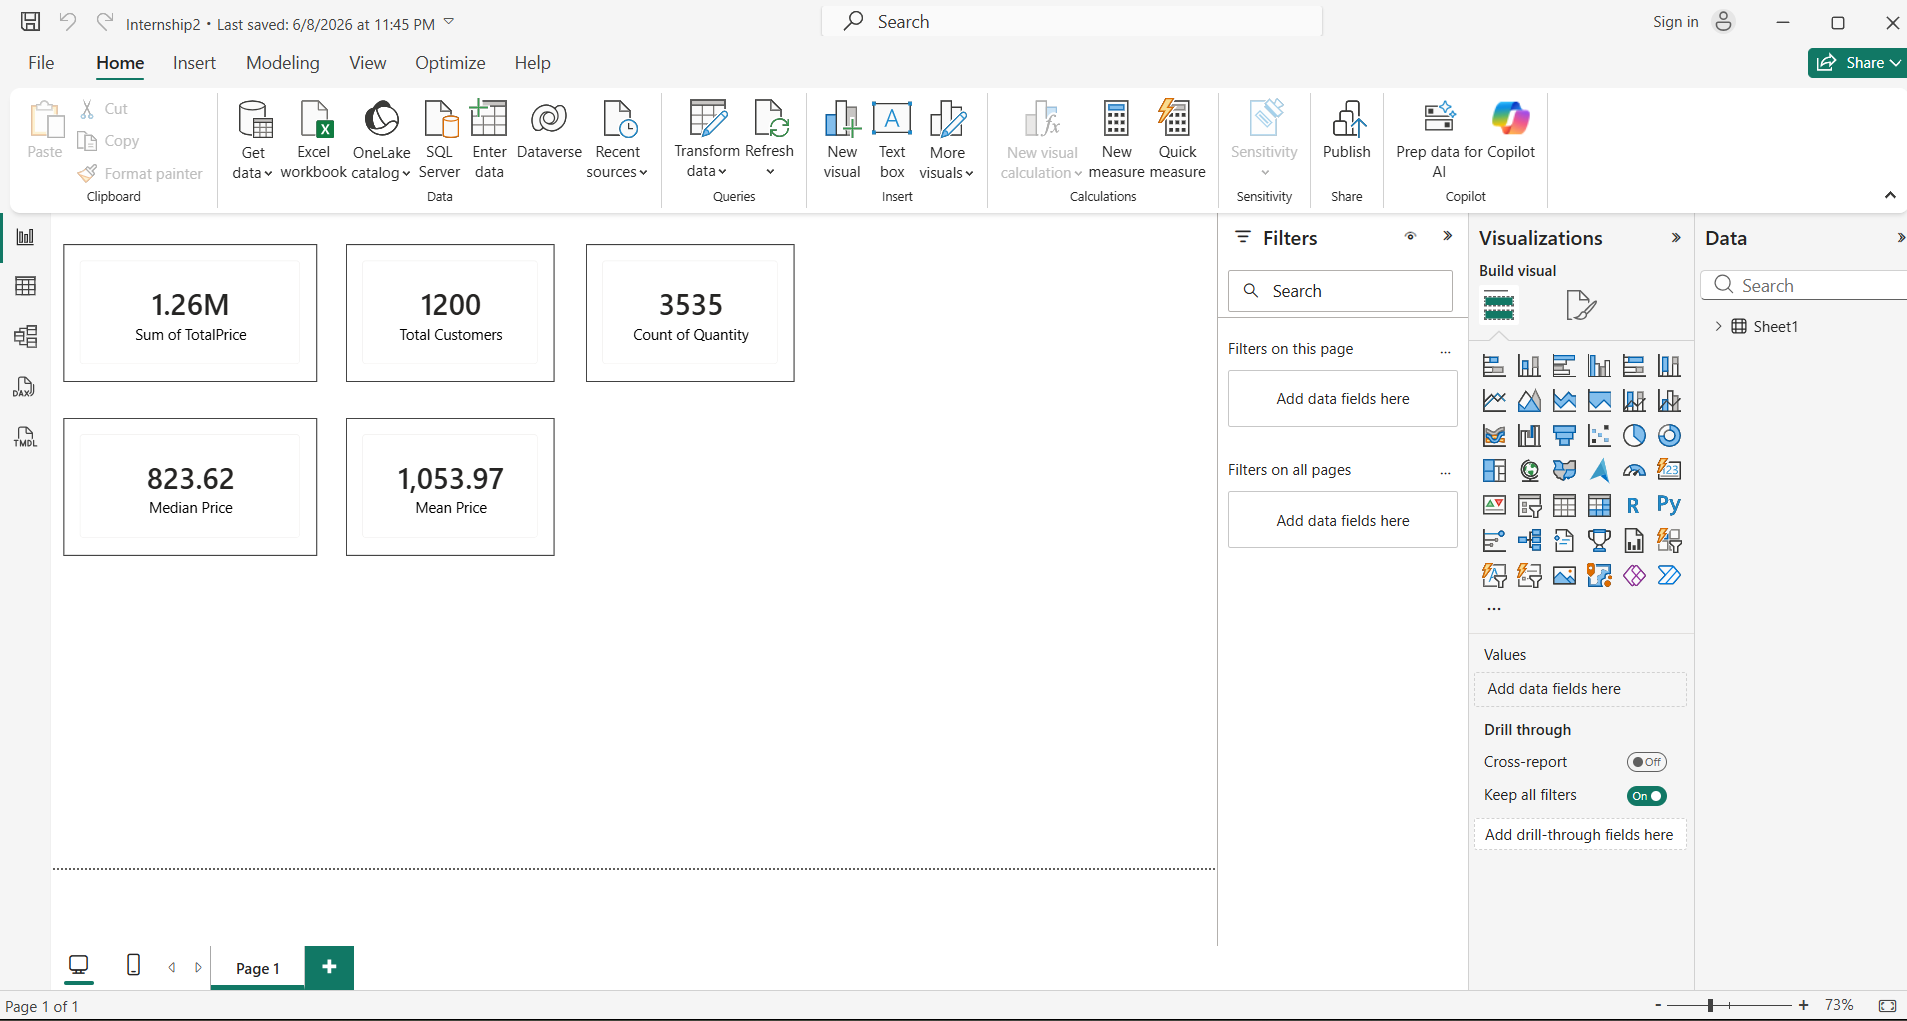

The page's visual inventory and layout, read from the dashboard file:
{"tool":"powerbi","page":{"name":"Page 1","canvas":[1280,720],"ordinal":0},"visuals":[{"type":"cardVisual","fields":{"Data":["Sheet1.Sum of TotalPrice"]},"box":[13.7,34.3,278.6,150.9],"z":0},{"type":"cardVisual","fields":{"Data":["Sheet1.Count of Quantity"]},"box":[587.3,34.3,229.2,150.9],"z":1000},{"type":"cardVisual","fields":{"Data":["Sheet1.Mean Price"]},"box":[323.8,225,229.2,150.9],"z":2000},{"type":"cardVisual","fields":{"Data":["Sheet1.Total Customers"]},"box":[323.8,34.3,229.2,150.9],"z":3000},{"type":"cardVisual","fields":{"Data":["Sheet1.Median Price"]},"box":[13.7,225,278.6,150.9],"z":4000}]}

Visuals, with their boxes on the page's 1280x720 design canvas (x1, y1, x2, y2). These are canvas units, not pixel positions in the 1907x1021 screenshot, which may show the page scaled, cropped or inside an application window:
cardVisual - Sheet1.Sum of TotalPrice: [x1=14, y1=34, x2=292, y2=185]
cardVisual - Sheet1.Count of Quantity: [x1=587, y1=34, x2=816, y2=185]
cardVisual - Sheet1.Mean Price: [x1=324, y1=225, x2=553, y2=376]
cardVisual - Sheet1.Total Customers: [x1=324, y1=34, x2=553, y2=185]
cardVisual - Sheet1.Median Price: [x1=14, y1=225, x2=292, y2=376]
